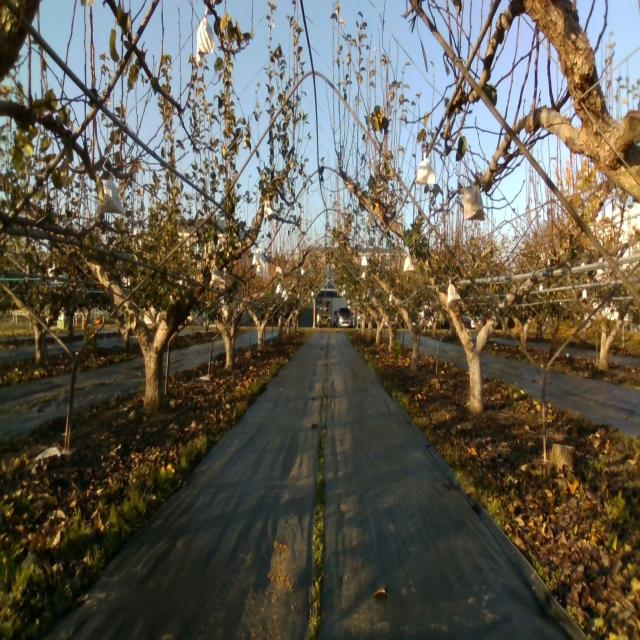pearbags: (94, 170, 126, 217), (196, 7, 215, 67), (462, 184, 485, 221), (415, 158, 437, 185), (210, 264, 223, 290), (252, 242, 265, 268), (447, 281, 461, 304), (404, 255, 416, 272)
